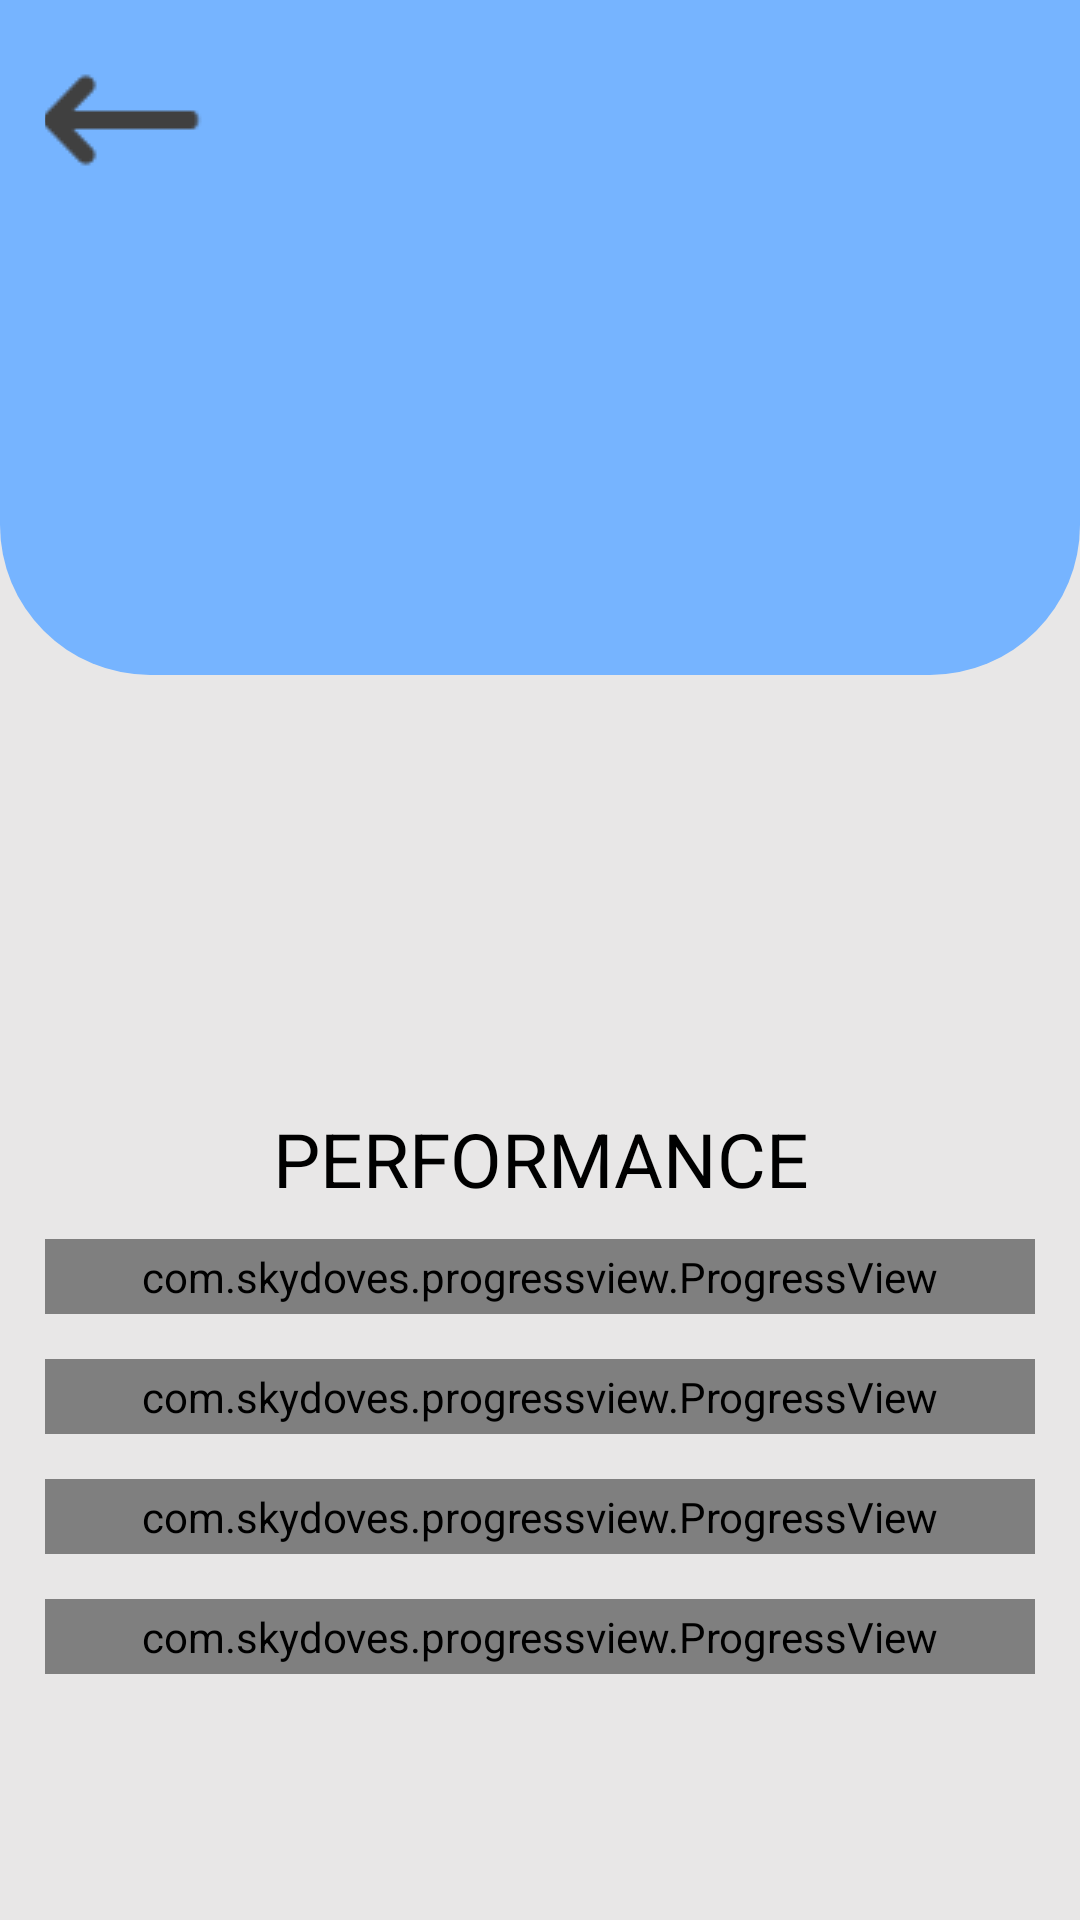

Named icons in this screenshot (1080 x 1920) and their centers, point (x, y):
arrow back: point (122, 120)
